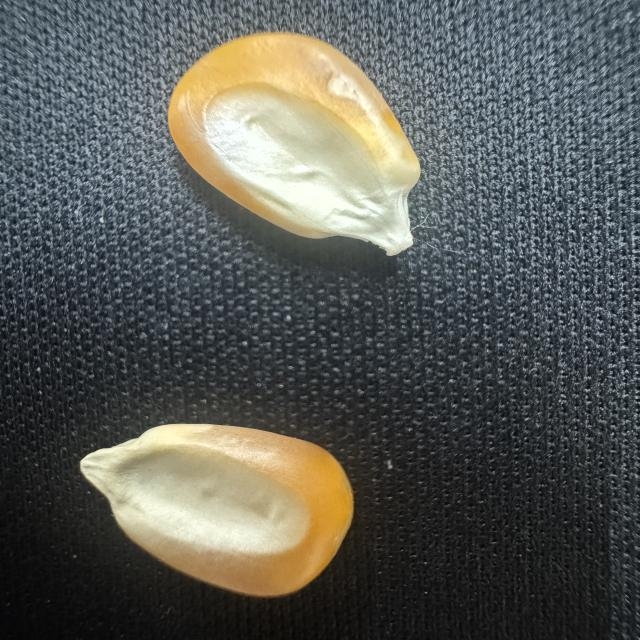Good-Seed: (161, 26, 445, 263), (66, 414, 363, 600)
